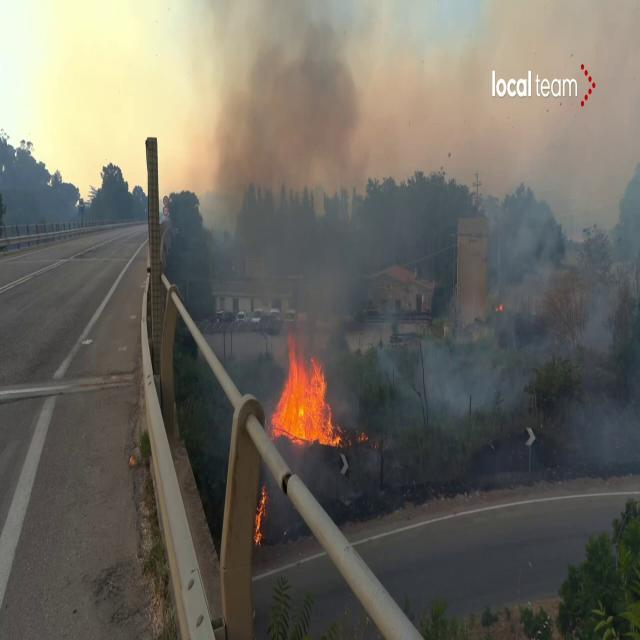Fire: (270, 332, 340, 447), (252, 482, 268, 547)
Smoke: (344, 146, 640, 434), (207, 1, 376, 323)
